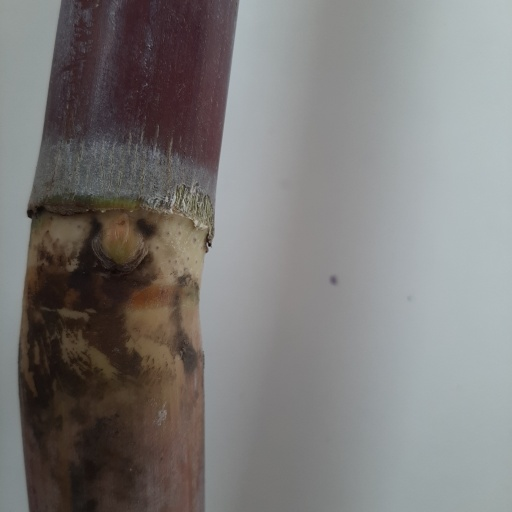Bud: (100, 210, 145, 268)
